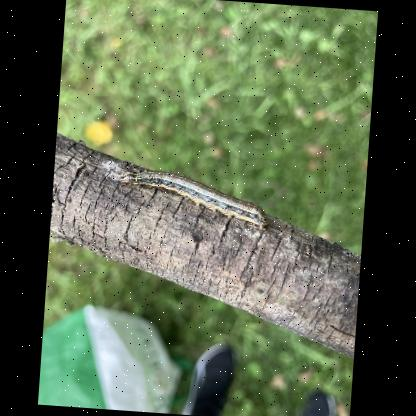Fall Armyworm Larvae: (116, 164, 274, 232)
